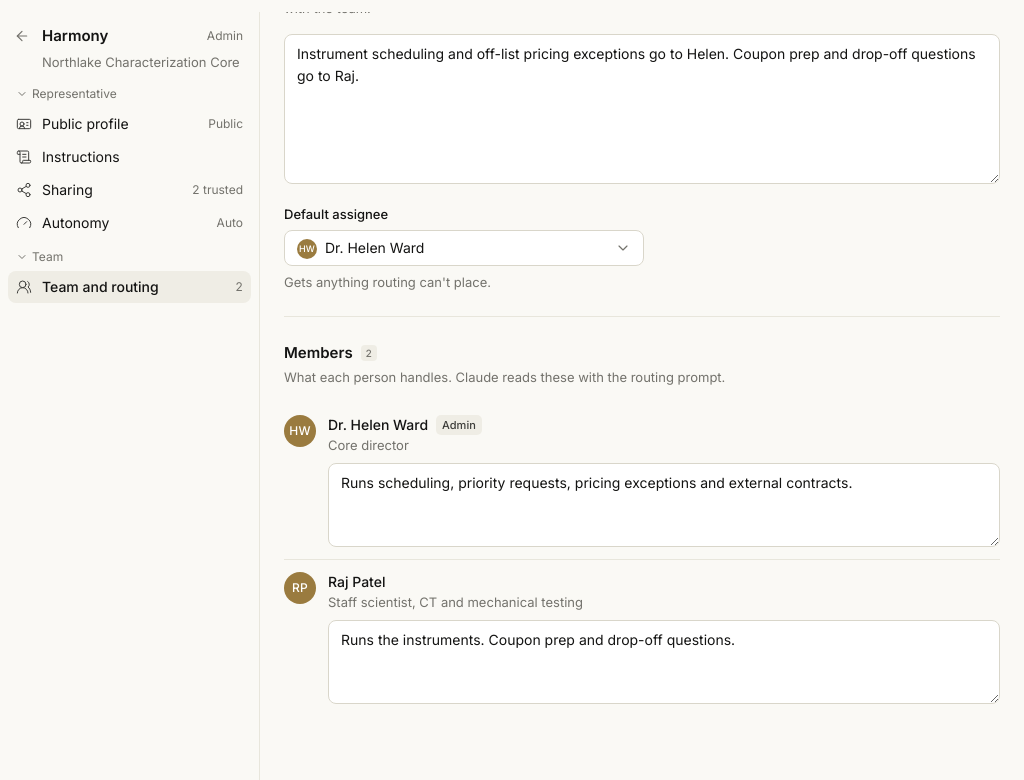
it: edits a member's profile on the Team pane and saves it with the settings
(page scrolled)
Replace the text in the text box named "Raj Patel's profile" with "CT and compression queues; owns the reserve block." at coordinates (664, 662), box [328,620,1000,704]
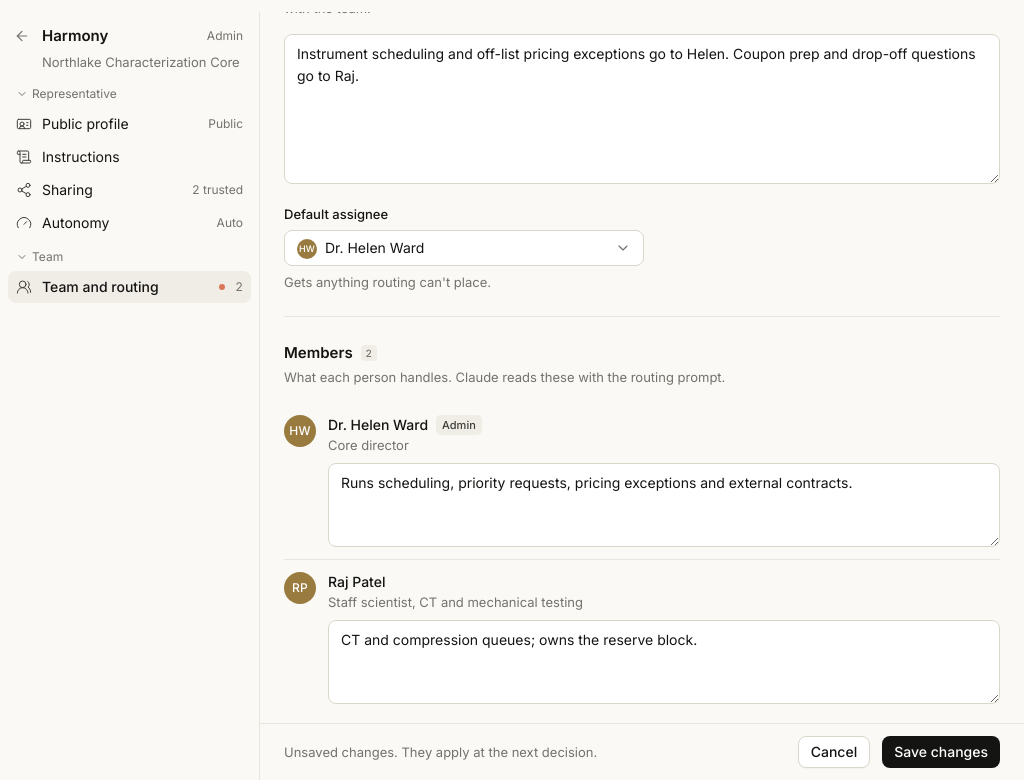
Click the button "Save changes" at coordinates (941, 752), box [882,736,1000,768]
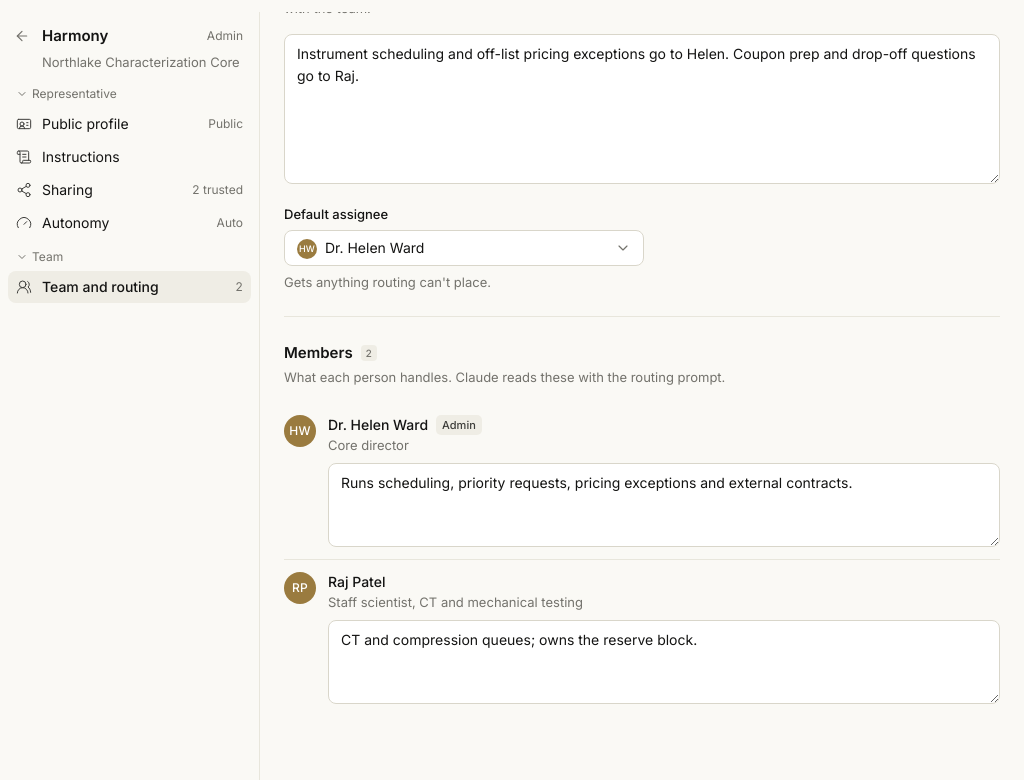
Result: the button "Save changes" is gone
